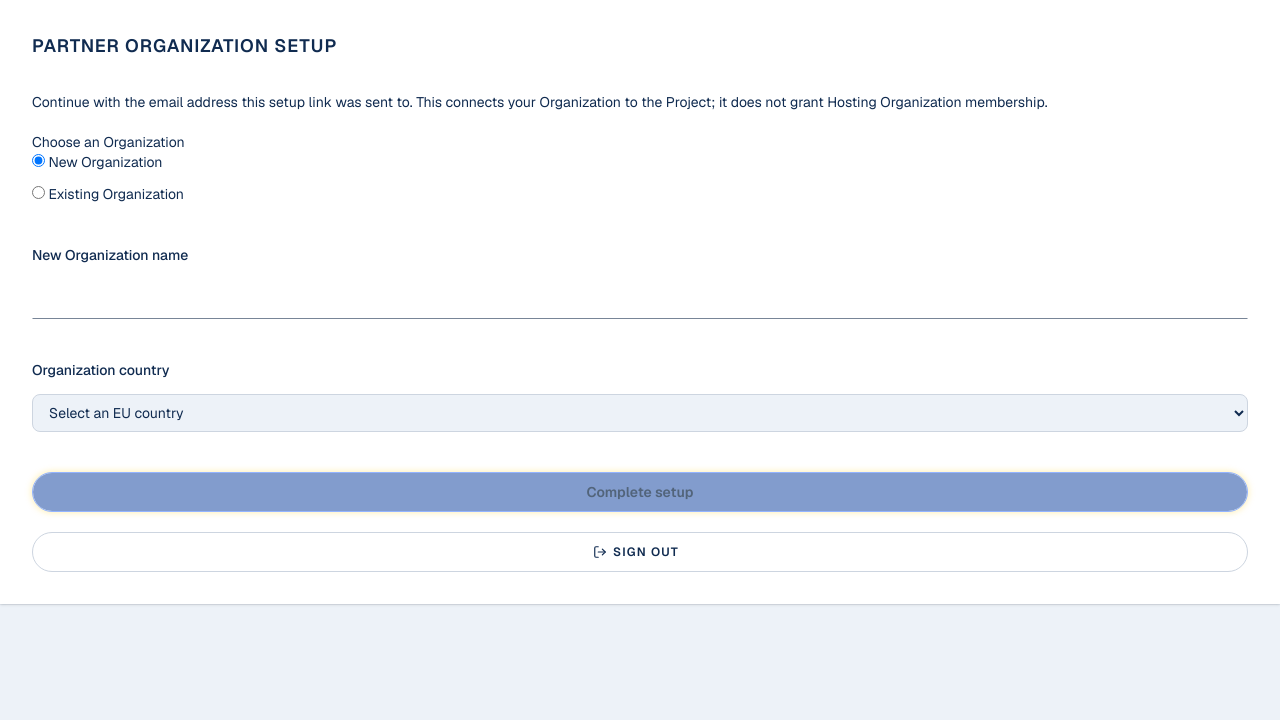
it: keeps unknown remote errors out of presentation and offers inspection
Expected: the button "Complete setup" is shown, [32,472,1248,512]
Click the radio button labelled "Existing Organization" at [38, 192], box [32,186,45,199]
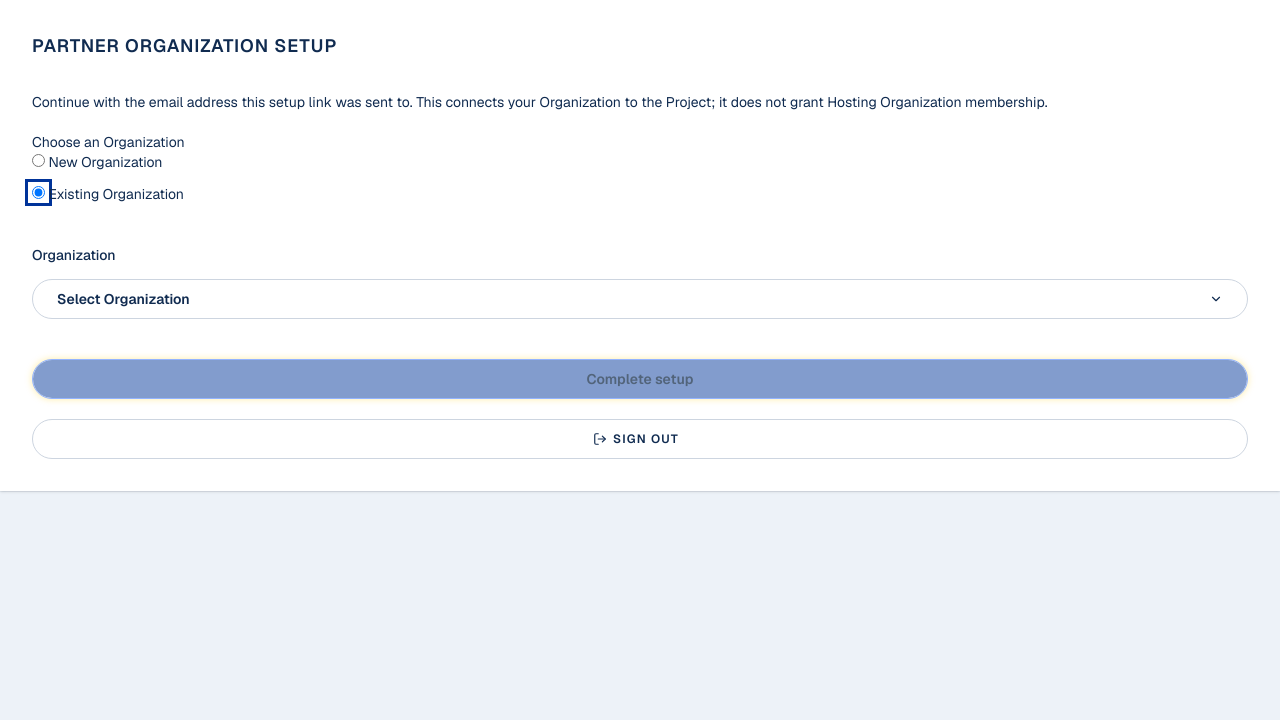
Click the button "Select Organization" at [123, 299], box [32,279,1248,319]
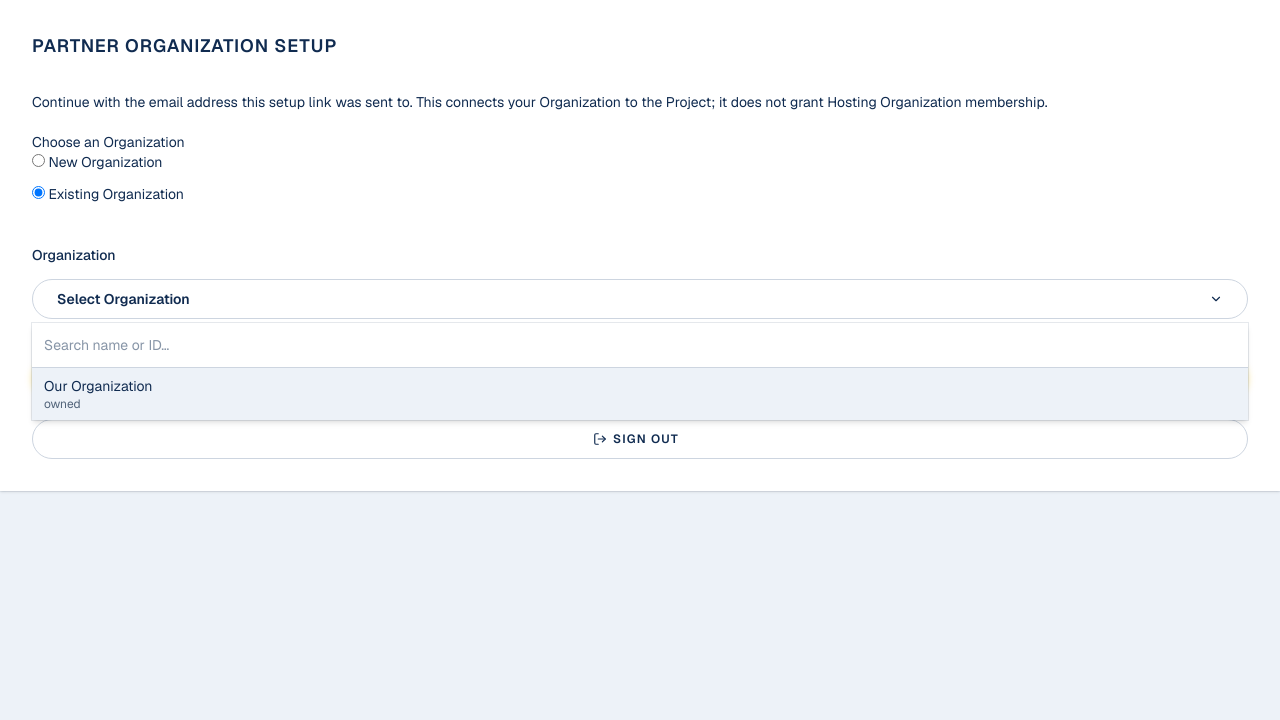
Type "Our" into the dropdown at [640, 346], box [32,323,1248,368]
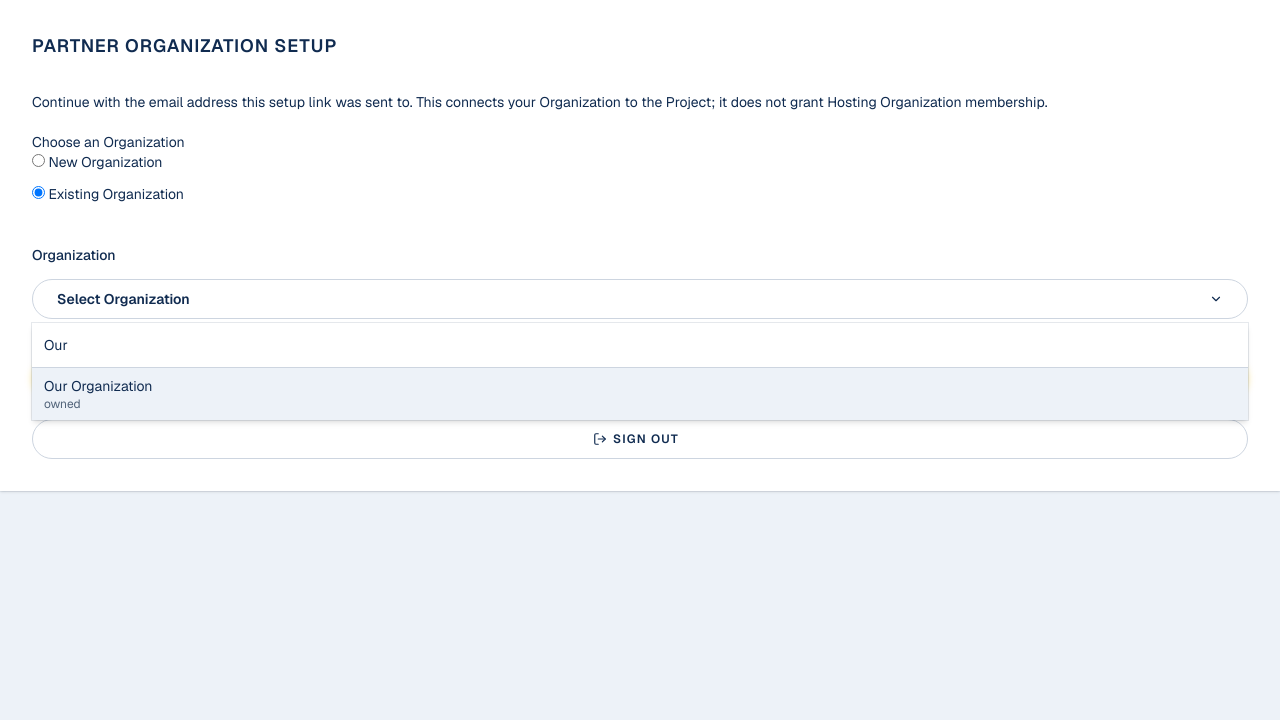
Click the option "Our Organization owned" at [98, 386], box [32,368,1248,420]
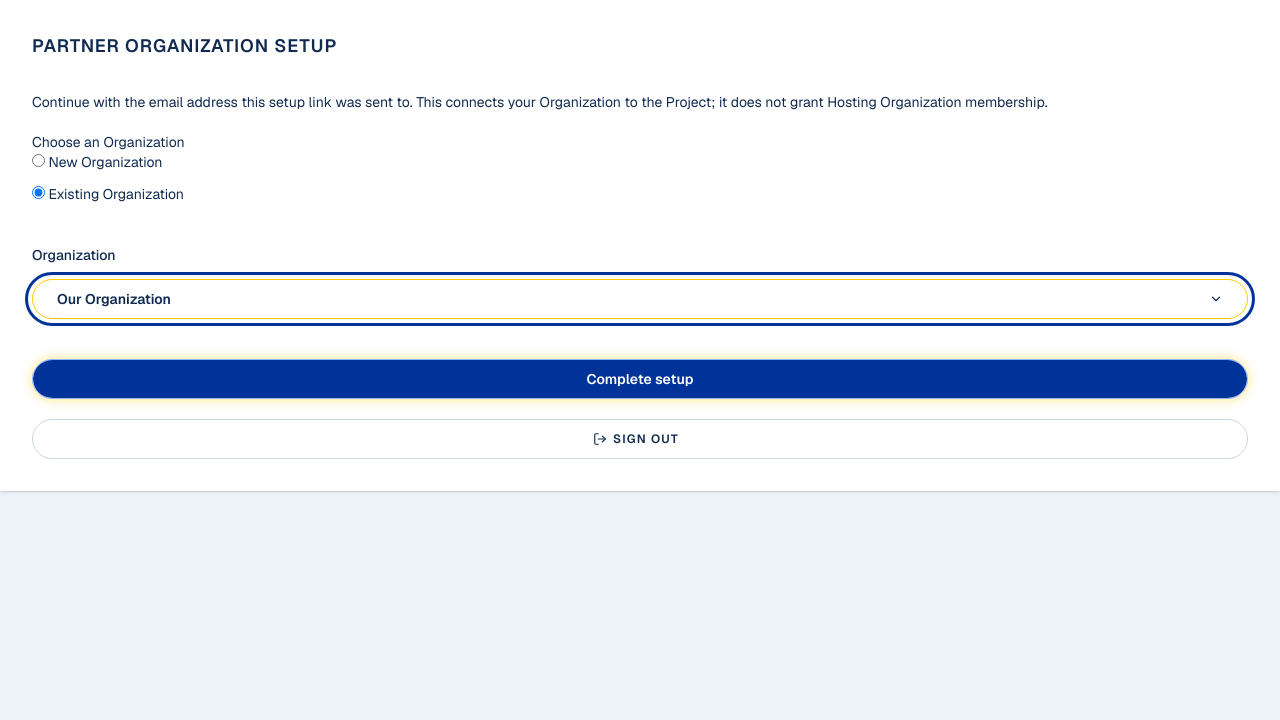
Click the button "Complete setup" at [640, 379], box [32,359,1248,399]
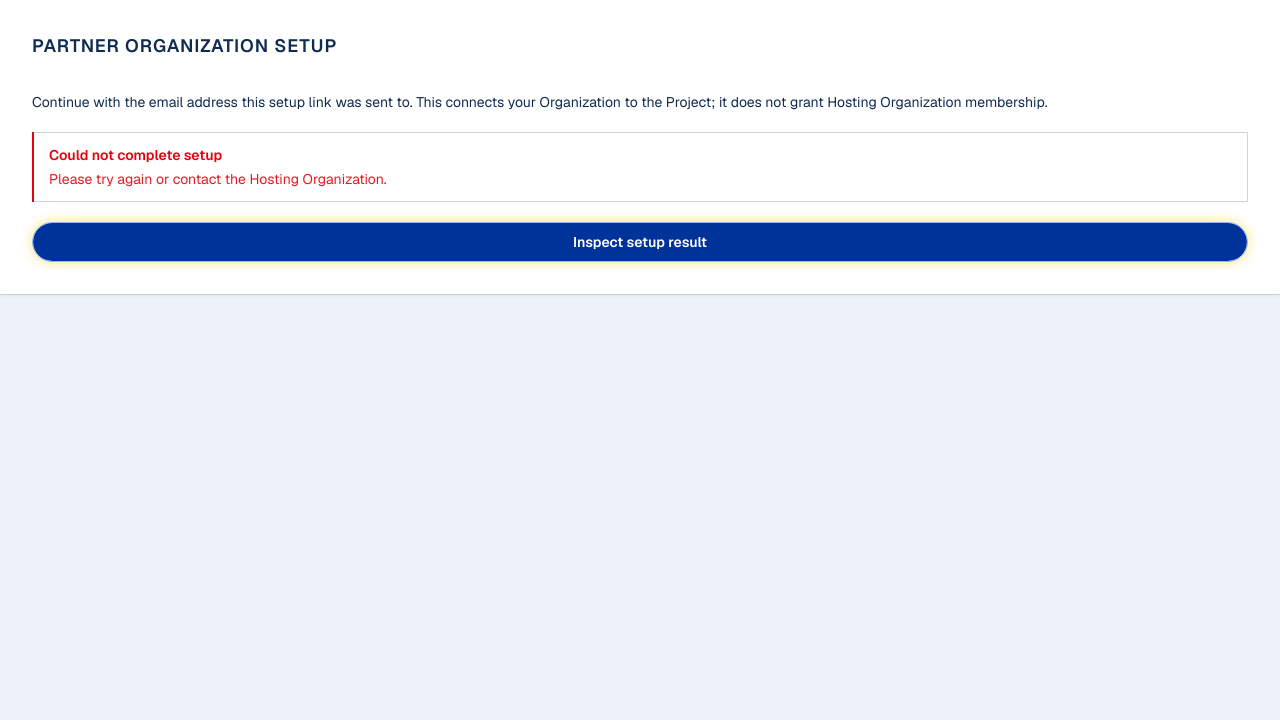
Expected: the message "Could not complete setup Please try again or contact the Hosting Organization." is shown, [32,132,1248,202]
